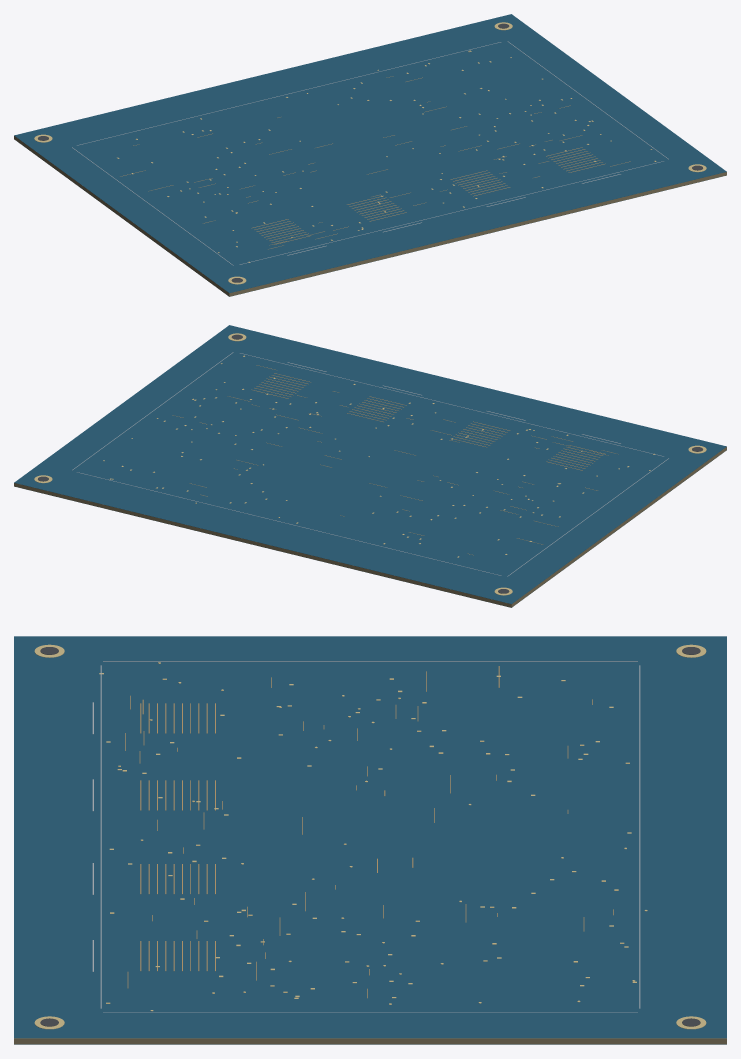
Rendered from 089_L103_PCB_Main.glb.
3 renders of one model, top to bottom at view 1: azimuth 30°, elevation 25°; view 2: azimuth 150°, elevation 25°; view 3: azimuth 270°, elevation 25°, orthographic. The views are drawn at different scales.
Visible parts, largest first — view 1: TopSoldermask, FR4_Dielectric; view 2: TopSoldermask, FR4_Dielectric; view 3: TopSoldermask, FR4_Dielectric, BottomSoldermask, SilkscreenBorder, SilkscreenBorder_1.
Boxes of the visible parts, <box> form: TopSoldermask: <box>14,14,726,293</box>; FR4_Dielectric: <box>14,136,726,296</box>; TopSoldermask: <box>14,325,726,604</box>; FR4_Dielectric: <box>14,447,726,607</box>; TopSoldermask: <box>14,636,726,1038</box>; FR4_Dielectric: <box>14,1038,726,1044</box>; BottomSoldermask: <box>14,1044,726,1044</box>; SilkscreenBorder: <box>639,665,640,1008</box>; SilkscreenBorder_1: <box>100,665,101,1008</box>.
Bounding box in the file's own units: 0.24 × 0.00197 × 0.18.
